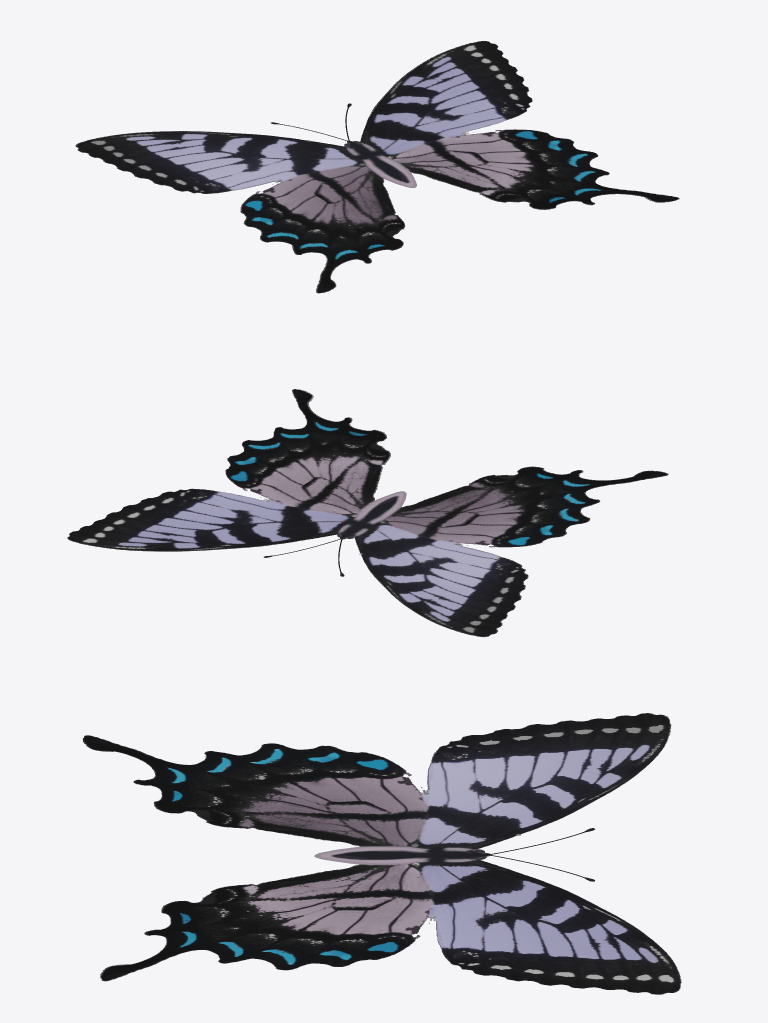
Rendered from butterflyPlane.fbx.
The picture shows the model from 3 angles, top to bottom: view 1: azimuth 30°, elevation 25°; view 2: azimuth 150°, elevation 25°; view 3: azimuth 270°, elevation 25°; orthographic projection. The views are drawn at different scales.
Visible parts, largest first — view 1: butterfly_plane; view 2: butterfly_plane; view 3: butterfly_plane.
Part boxes in pixels (x1,y1,x2,y2): butterfly_plane: (75,41,679,293); butterfly_plane: (67,389,668,637); butterfly_plane: (82,713,681,994).
Bounding box in the file's own units: 17.61 × 0 × 17.61.
Materials: 1 (1 with a texture image).
